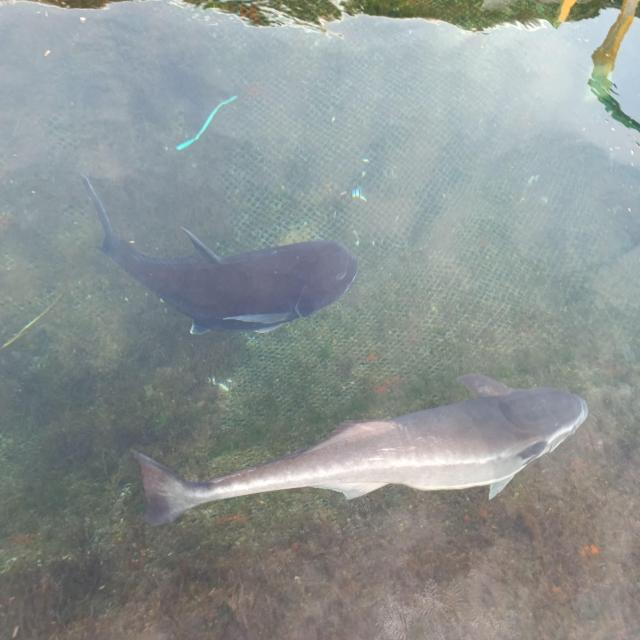ikan: (129, 371, 589, 528), (78, 171, 359, 337)
